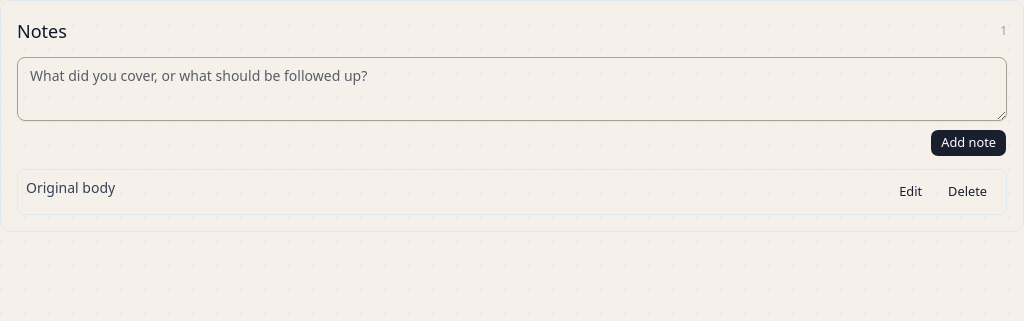
it: NotesSection — CRUD › edits a note (PATCH) and shows the updated body
The width and height of the screenshot is (1024, 321).
Expected: the text "Original body" is shown, [26,178,115,198]
Click the button "Edit" at {"x": 911, "y": 192}, box [888,178,933,206]
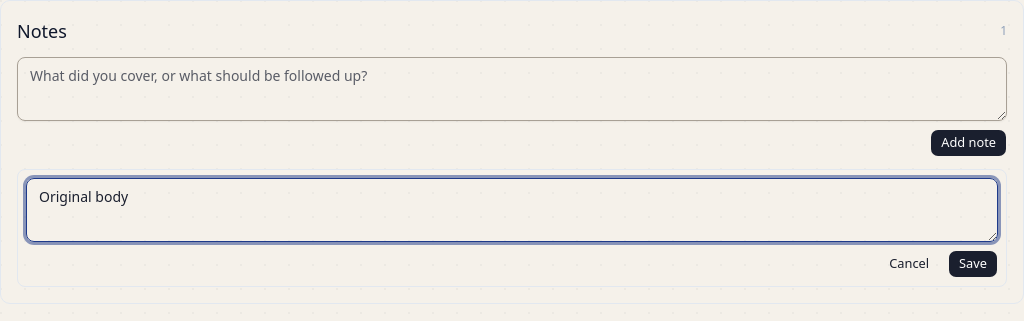
Replace the text in the text box named "Note" with "Edited body" at {"x": 512, "y": 210}, box [26,178,998,242]
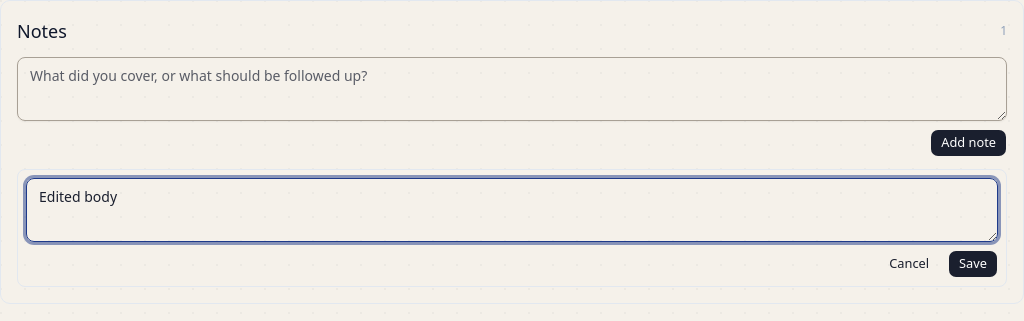
Click the button "Save" at {"x": 973, "y": 264}, box [948,250,998,278]
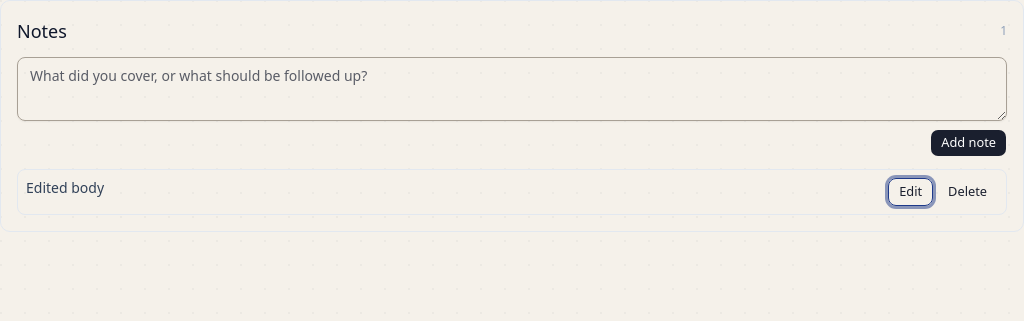
Expected: the text "Edited body" is shown, [26,178,104,198]
